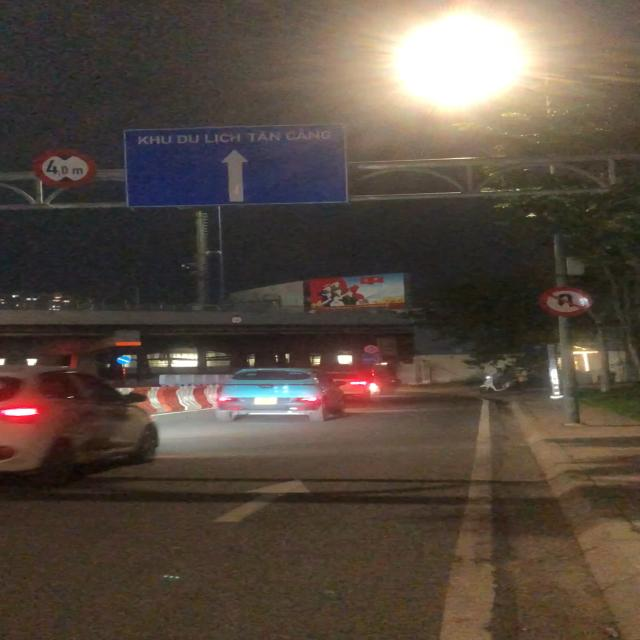Bien bao cam quay dau xe: (535, 284, 596, 317)
Bien bao han che chieu cao: (30, 146, 102, 188)
